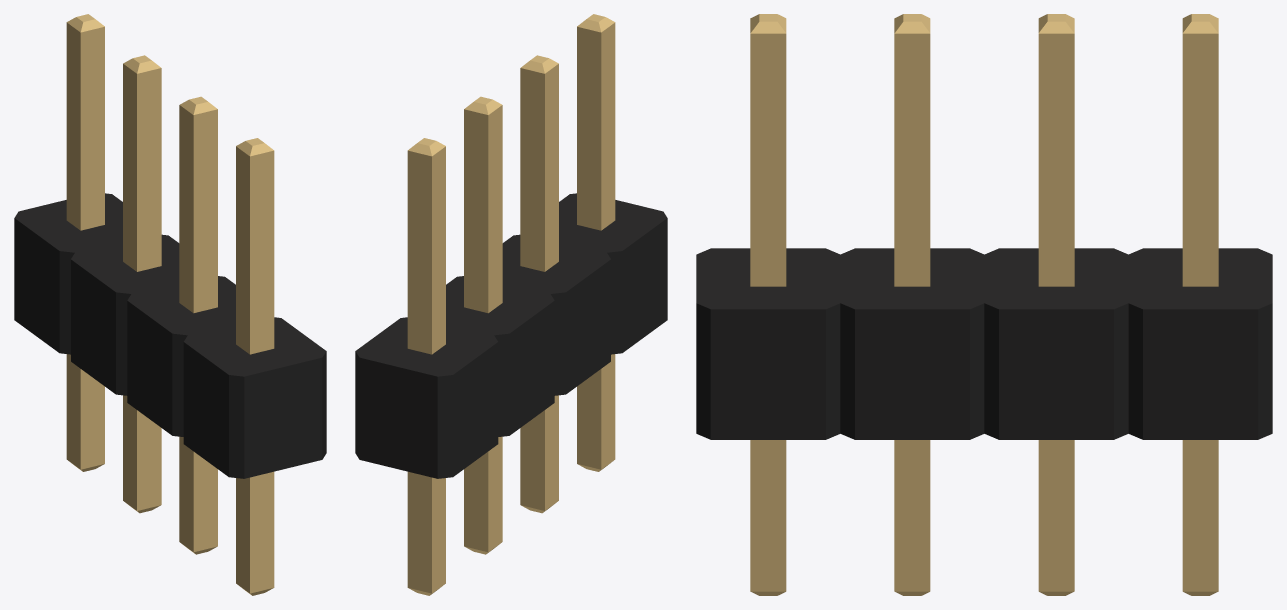
File: PinHeader_1x04_P2.00mm_Vertical.glb
3 views of the same model, side by side, from view 1: azimuth 30°, elevation 25°; view 2: azimuth 150°, elevation 25°; view 3: azimuth 270°, elevation 25° (orthographic). The views are drawn at different scales.
Parts seen in each view (by area): view 1: =>[0:1:1:3]; view 2: =>[0:1:1:3]; view 3: =>[0:1:1:3].
Boxes of the visible parts, x1=… form: =>[0:1:1:3]: x1=14, y1=14, x2=326, y2=595; =>[0:1:1:3]: x1=355, y1=14, x2=667, y2=595; =>[0:1:1:3]: x1=696, y1=14, x2=1272, y2=595.
Size of the model in its own units: 0.002 by 0.0088 by 0.008.
